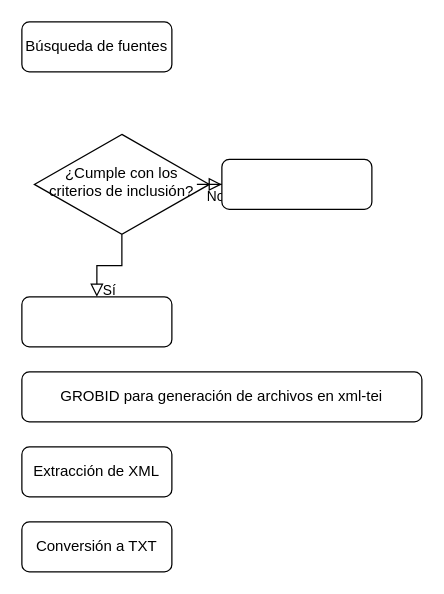
The diagram is 444 pixels wide and 594 high, and some of its shapes have lost their labels. Here are the shapes that lost their labels. From the top down, the box of each, then its label:
(221, 158, 372, 209): Se descarta
(21, 296, 172, 347): Descarga de PDFs
